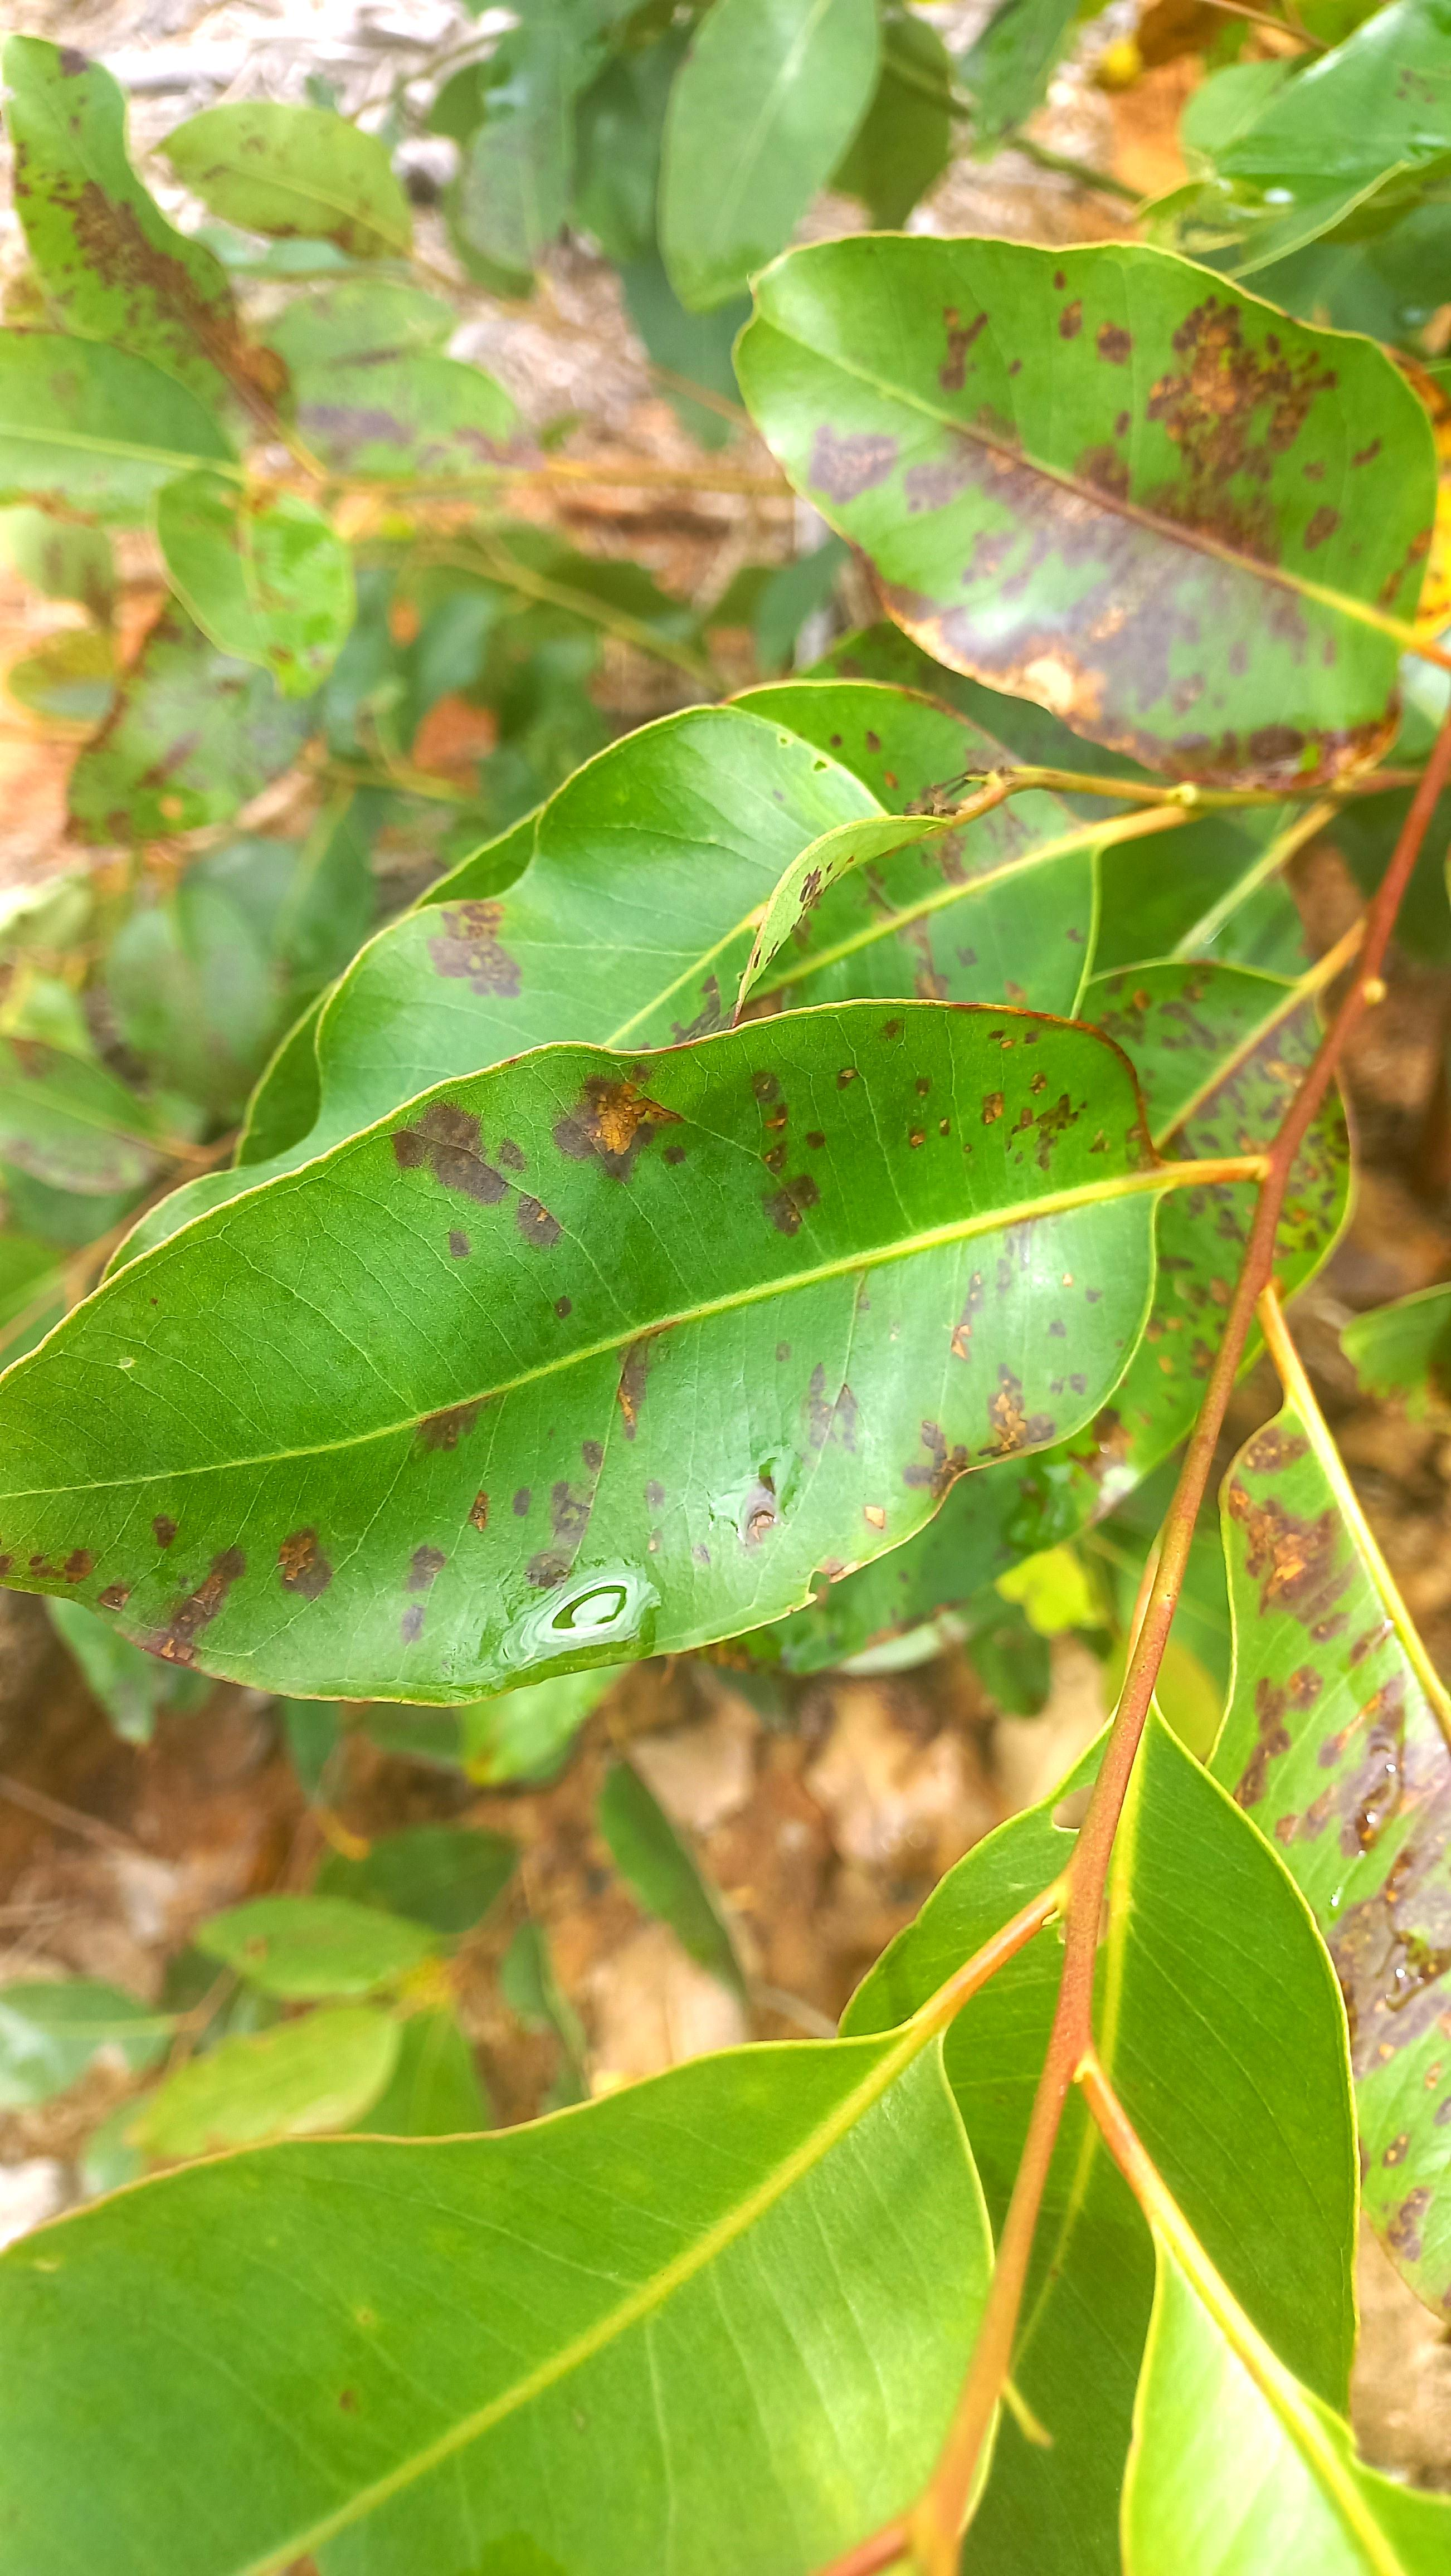Xanthomonas: (0, 998, 1138, 1649), (741, 212, 1451, 780), (1221, 1283, 1451, 2491), (0, 14, 313, 479), (1164, 982, 1350, 1408)
